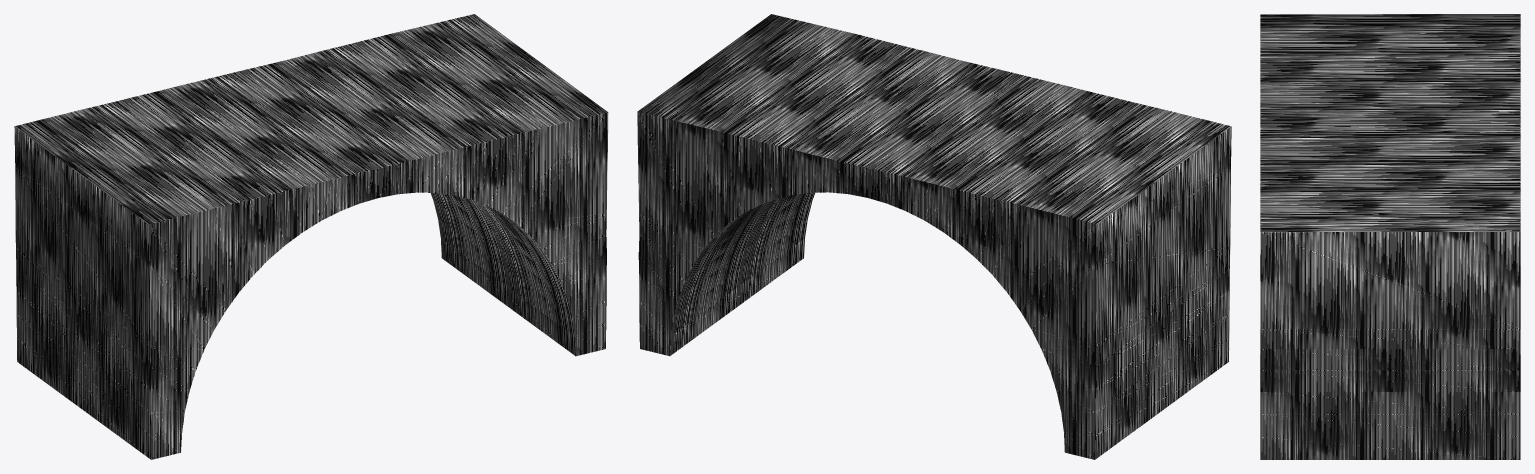
Rendered from Arch.fbx.
3 renders of one model, left to right at view 1: azimuth 30°, elevation 25°; view 2: azimuth 150°, elevation 25°; view 3: azimuth 270°, elevation 25°, orthographic. The views are drawn at different scales.
Parts seen in each view (by area): view 1: Arch; view 2: Arch; view 3: Arch.
Boxes of the visible parts, x1,y1,x2,y2 form: Arch: (14,14,608,459); Arch: (637,14,1231,459); Arch: (1260,14,1520,459).
Bounding box in the file's own units: 396 × 195 × 200.
1 material, 1 textured.
